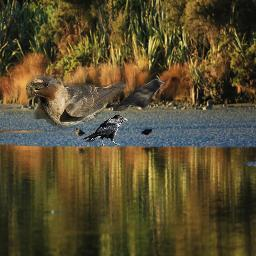Crow: (113, 79, 165, 111), (82, 114, 128, 147)
Swallow: (26, 75, 127, 130)
